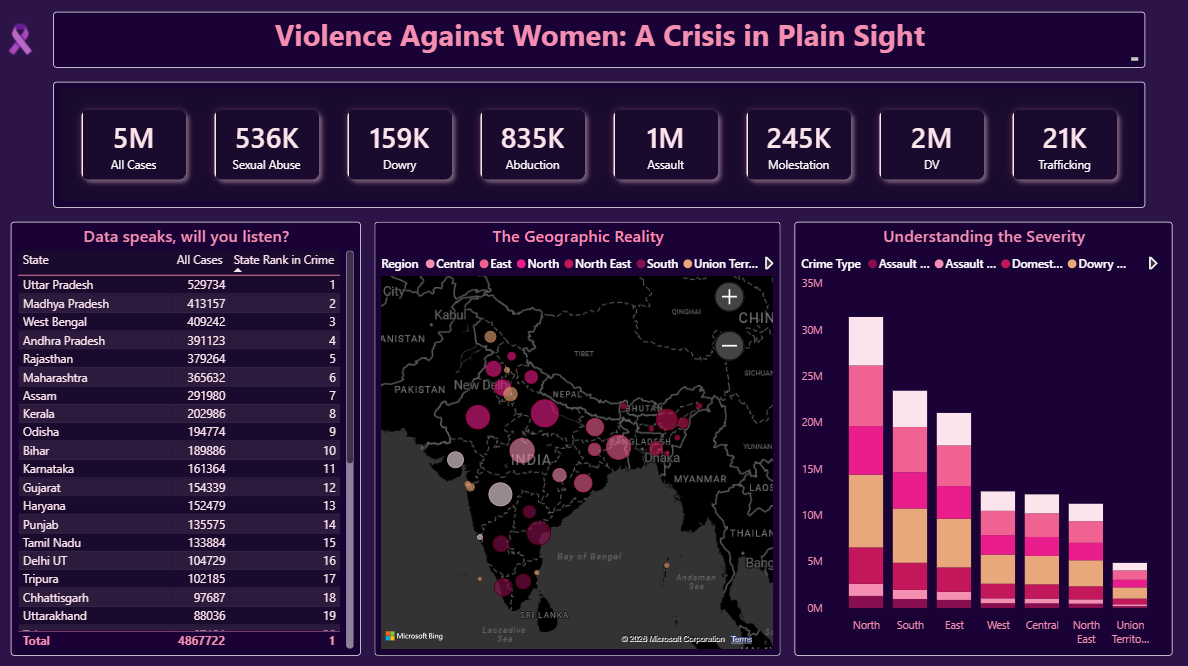

This screenshot's page, from the dashboard's own definition file:
{"tool":"powerbi","page":{"name":"Quick Analysis","canvas":[1366,768],"ordinal":0},"visuals":[{"type":"actionButton","title":"Open Slicer Panel","box":[0,16,53.3,62.7],"z":0},{"type":"cardVisual","title":"KPIs","fields":{"Data":["Fact_Crimes.Total No. Of Cases","Fact_Crimes.Rape Cases","Fact_Crimes.Dowry Cases","Fact_Crimes.Kidnapping Cases","Fact_Crimes.Assault Cases","Fact_Crimes.Molestation Cases","Fact_Crimes.Domestic Violence Cases","Fact_Crimes.Trafficking Cases"]},"box":[64,96,1248,144],"z":1000},{"type":"tableEx","title":"Data speaks, will you listen?","fields":{"Values":["Dim_State.State","Fact_Crimes.All Cases","Fact_Crimes.State Rank in Crime"]},"box":[16,256,400,496],"z":2000},{"type":"map","title":"The Geographic Reality","fields":{"Category":["Dim_State.State"],"Series":["Dim_State.Region"],"Size":["Fact_Crimes.All Cases"]},"box":[432,256,464,496],"z":3000},{"type":"textbox","title":"Violence Against Women: A Crisis in Plain Sight","box":[64,16,1248,64],"z":4000},{"type":"lineStackedColumnComboChart","title":"Understanding the Severity","fields":{"Category":["Dim_State.Region"],"Y":["Fact_Crimes.Crime Severity Score"],"Series":["Fact_Crimes(Unpivoted).Crime Type"]},"box":[912,256,432,496],"z":6000}]}

Visuals, with their boxes in screenshot pixels (x1, y1, x2, y2), scaled from the page's 1366x768 canvas onto the 1188x666 screenshot:
"Open Slicer Panel" actionButton: detection(0, 14, 46, 68)
"KPIs" cardVisual: detection(56, 83, 1141, 208)
"Data speaks, will you listen?" tableEx: detection(14, 222, 362, 652)
"The Geographic Reality" map: detection(376, 222, 779, 652)
"Violence Against Women: A Crisis in Plain Sight" textbox: detection(56, 14, 1141, 69)
"Understanding the Severity" lineStackedColumnComboChart: detection(793, 222, 1169, 652)
